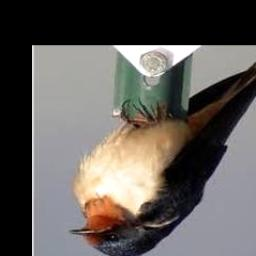Swallow: (69, 45, 256, 256)
